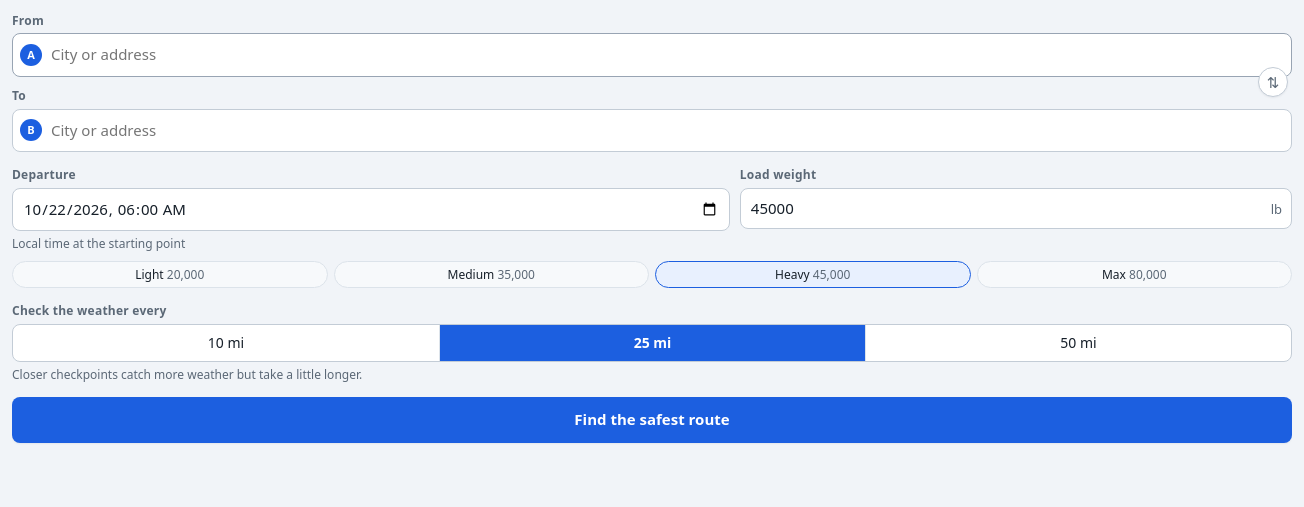
TripForm › rejects a load outside the allowed range
Replace the text in the number field labelled "Load weight" with "250000" at (1016, 209), box [740,188,1292,230]
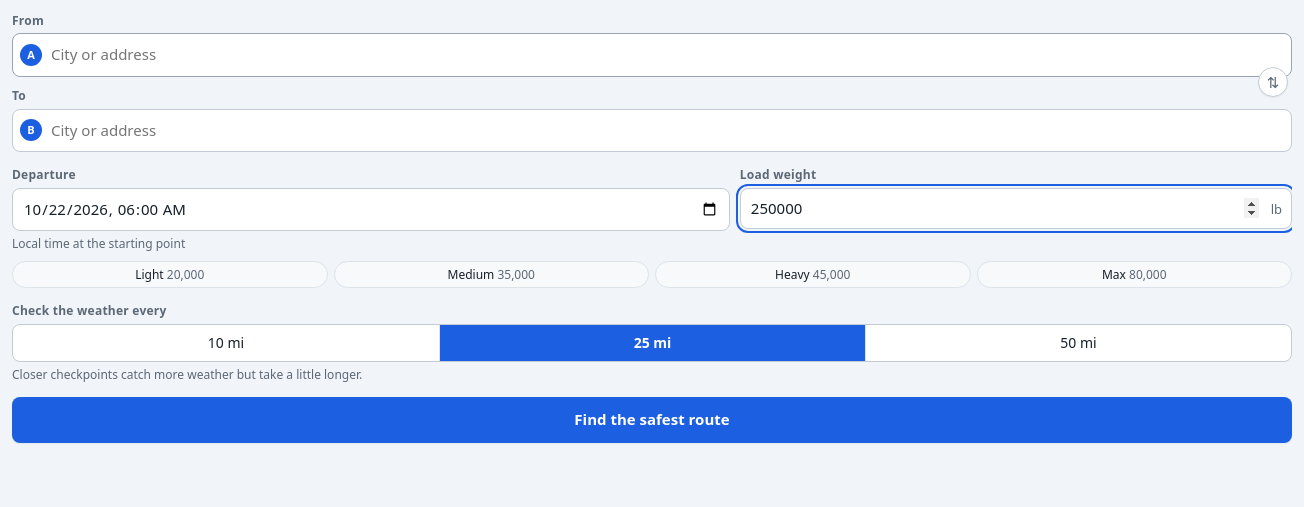
Click the button "Find the safest route".
click(652, 420)  # box [12,397,1292,443]
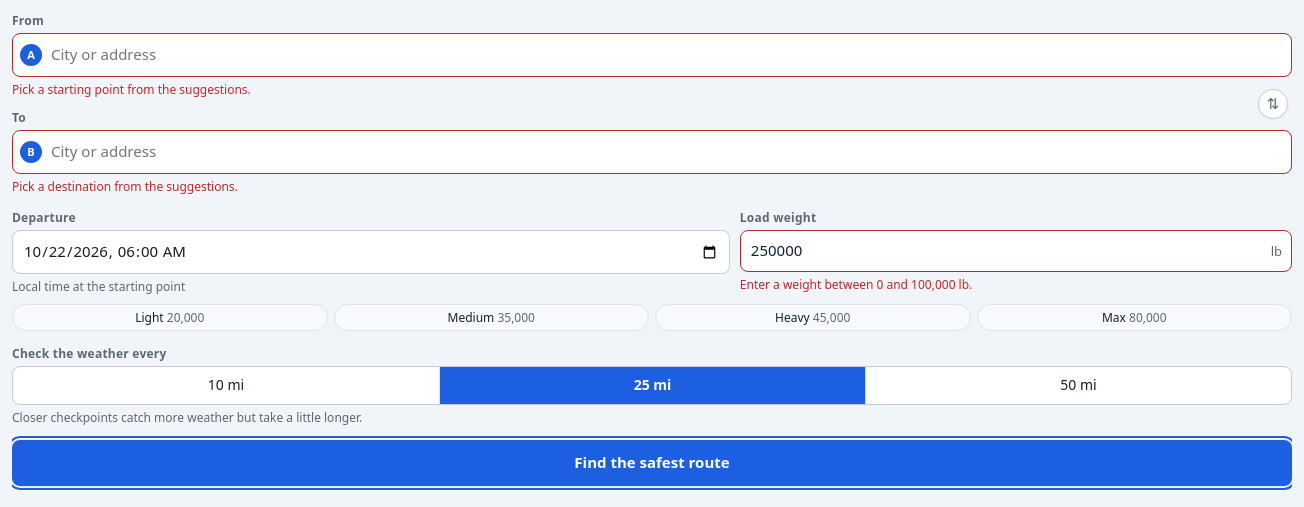
Expected: the text "Enter a weight between 0 and 100,000 lb." is shown, [740,276,972,293]
